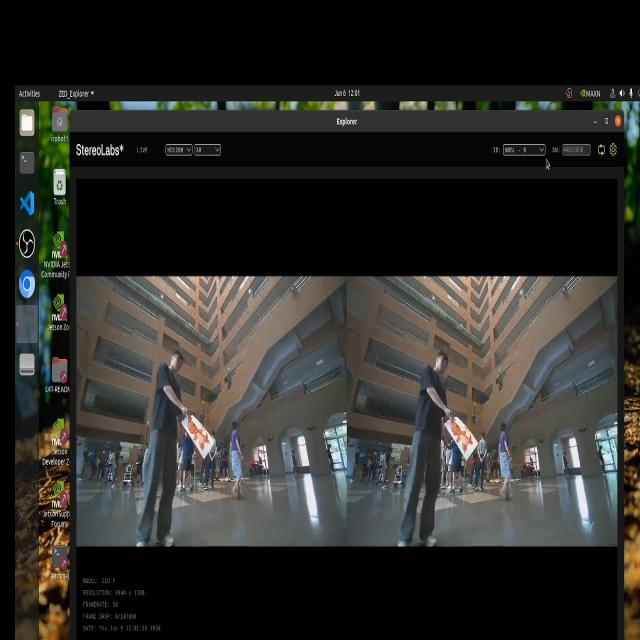red: (185, 414, 217, 454), (450, 419, 474, 457)
